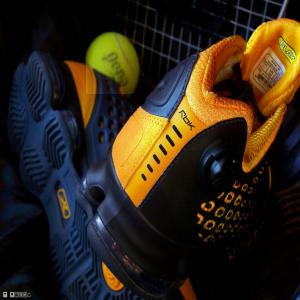TennisBall: (87, 31, 146, 96)
